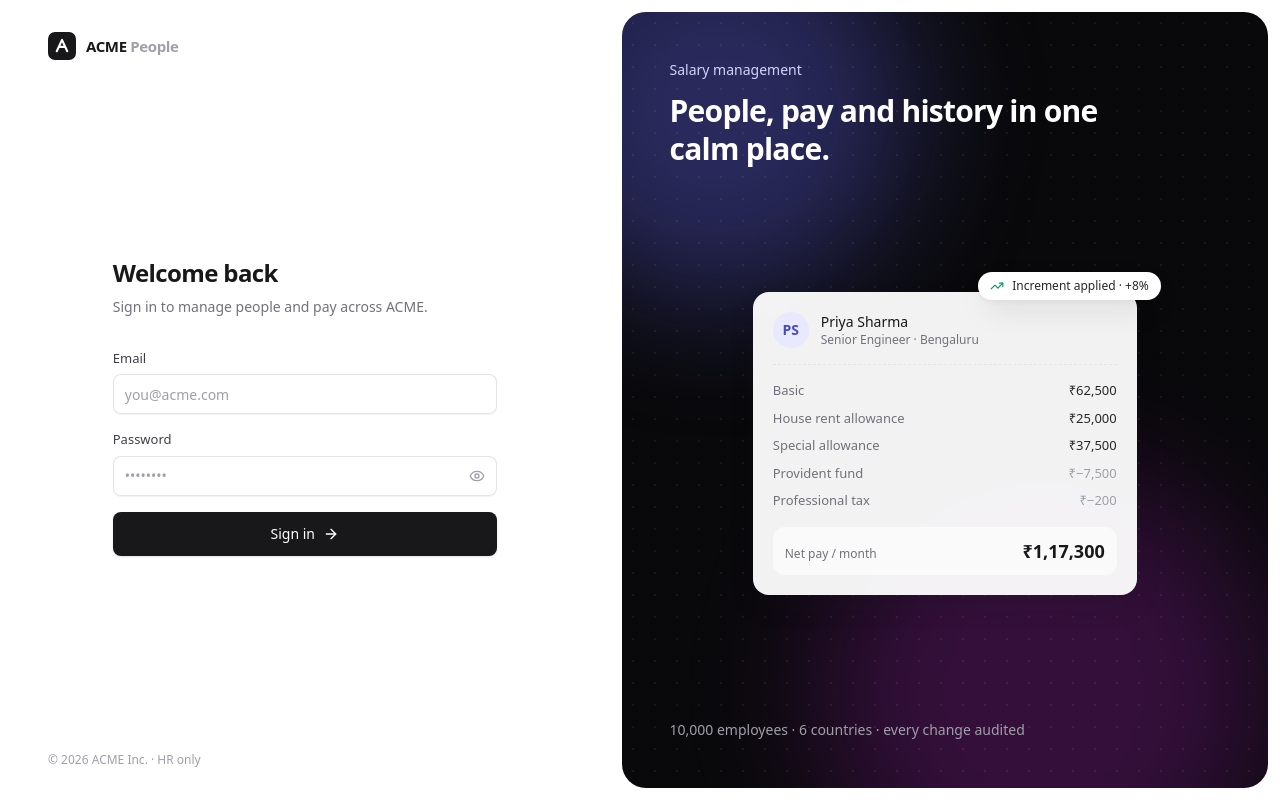
Test: SignInPage › shows the API error for wrong credentials and stays on the page
This screenshot has width=1280, height=800.
Type "hr@acme.com" into the field labelled "Email" at x=305, y=394, box left=113, top=374, right=497, bottom=414
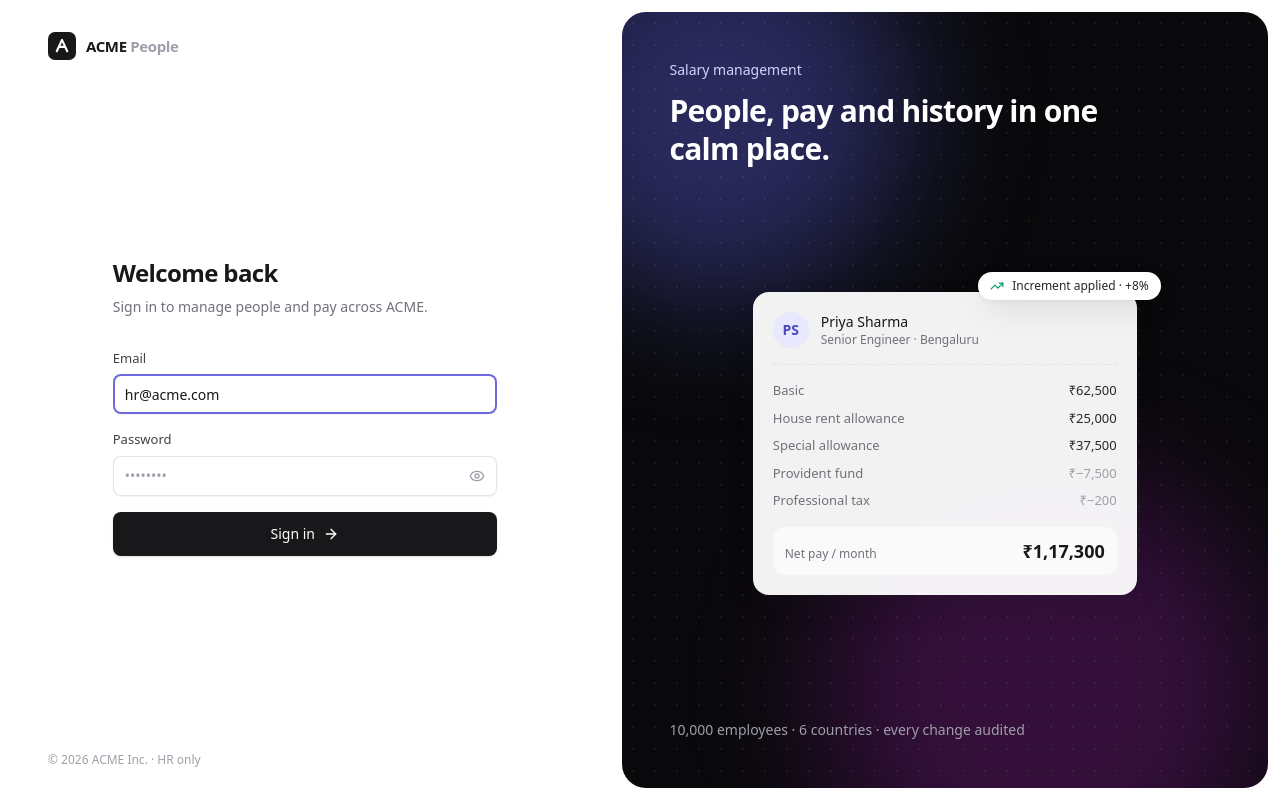
Type "wrong" into the password field labelled "Password" at x=305, y=476, box left=113, top=456, right=497, bottom=496
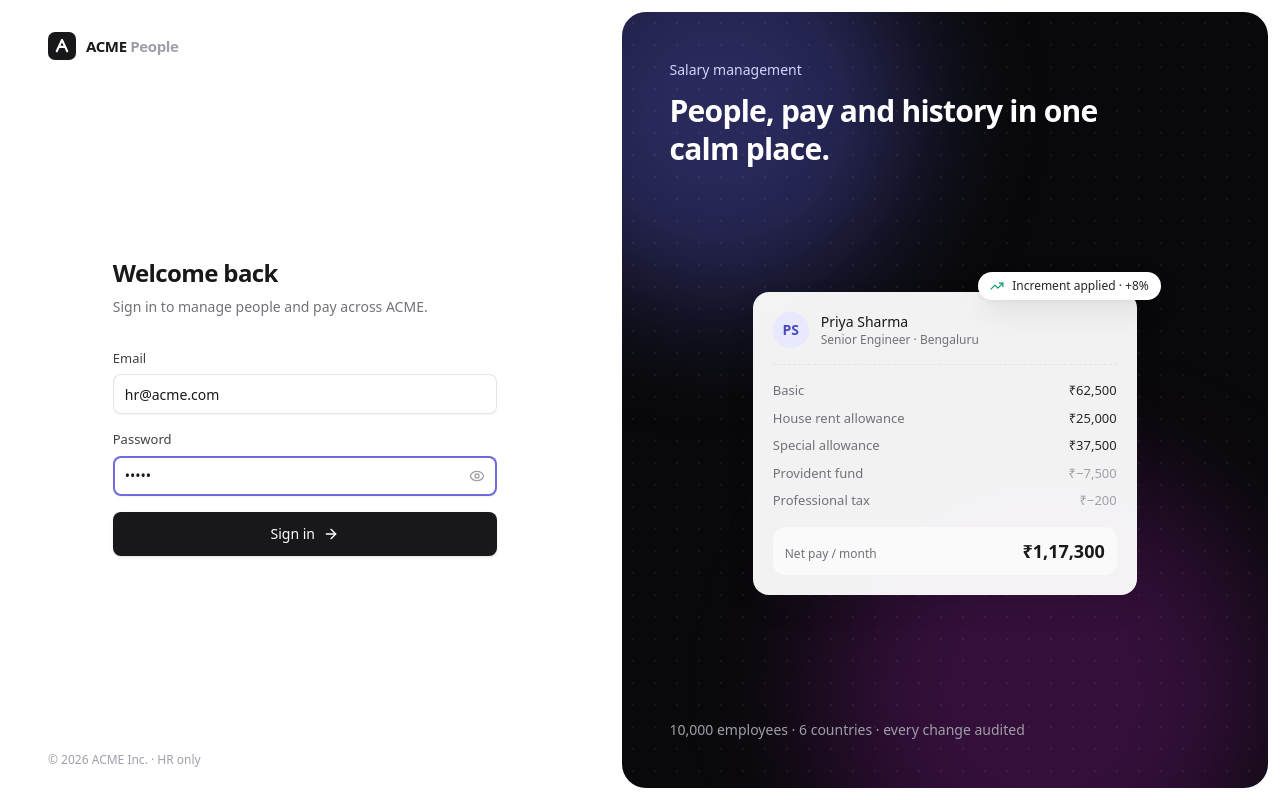
Click the button "Sign in" at x=305, y=534, box left=113, top=512, right=497, bottom=556
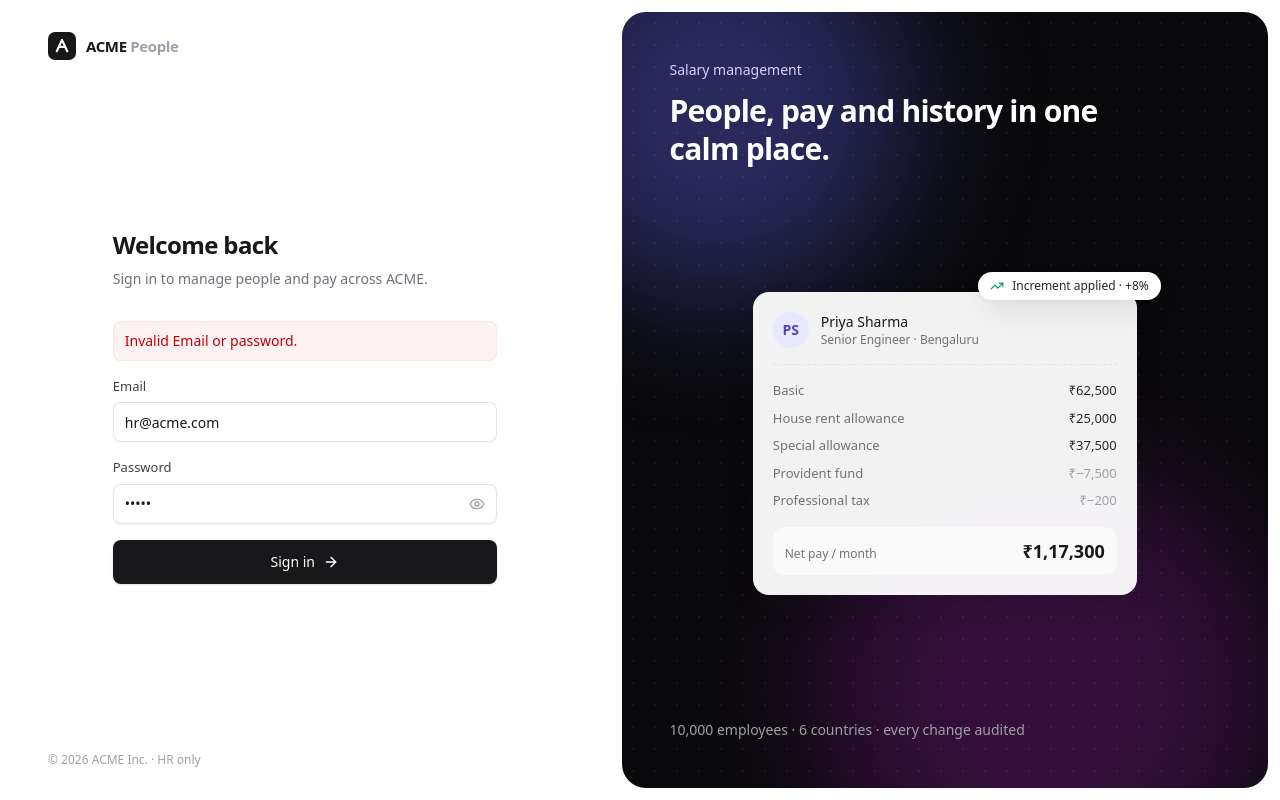
Expected: the message reads "Invalid Email or password.", left=125, top=330, right=297, bottom=350
